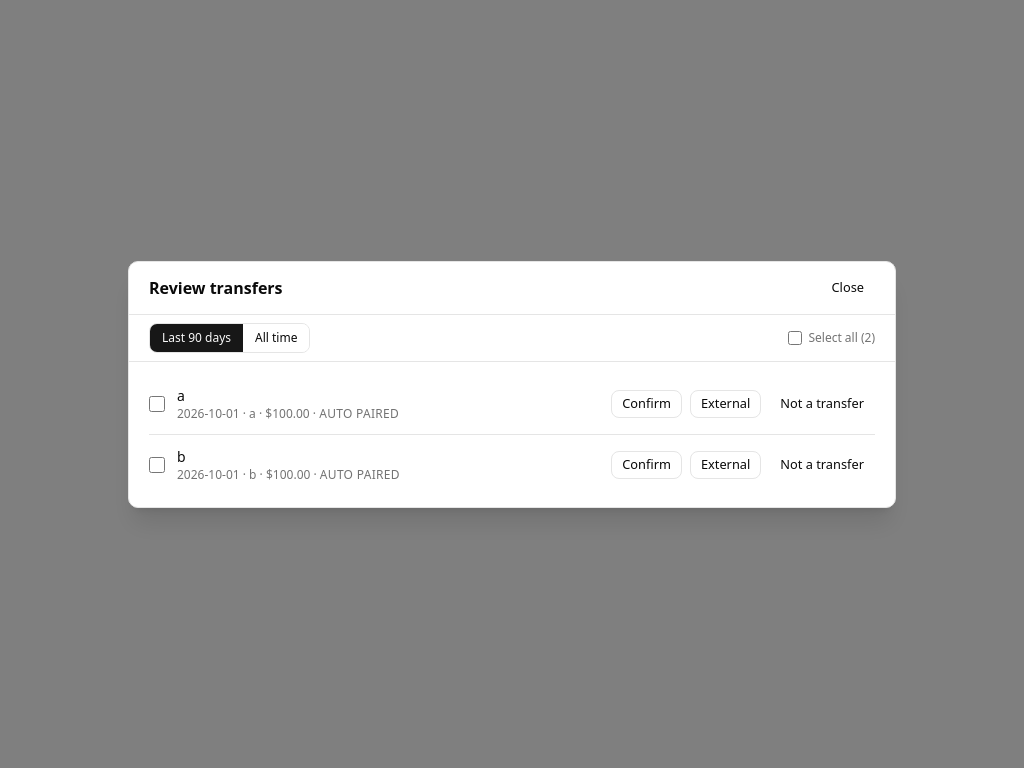
confirms each pair once even when both sides are selected
The width and height of the screenshot is (1024, 768).
Click the checkbox labelled "Select all (2)" at (795, 338), box [788,330,802,344]
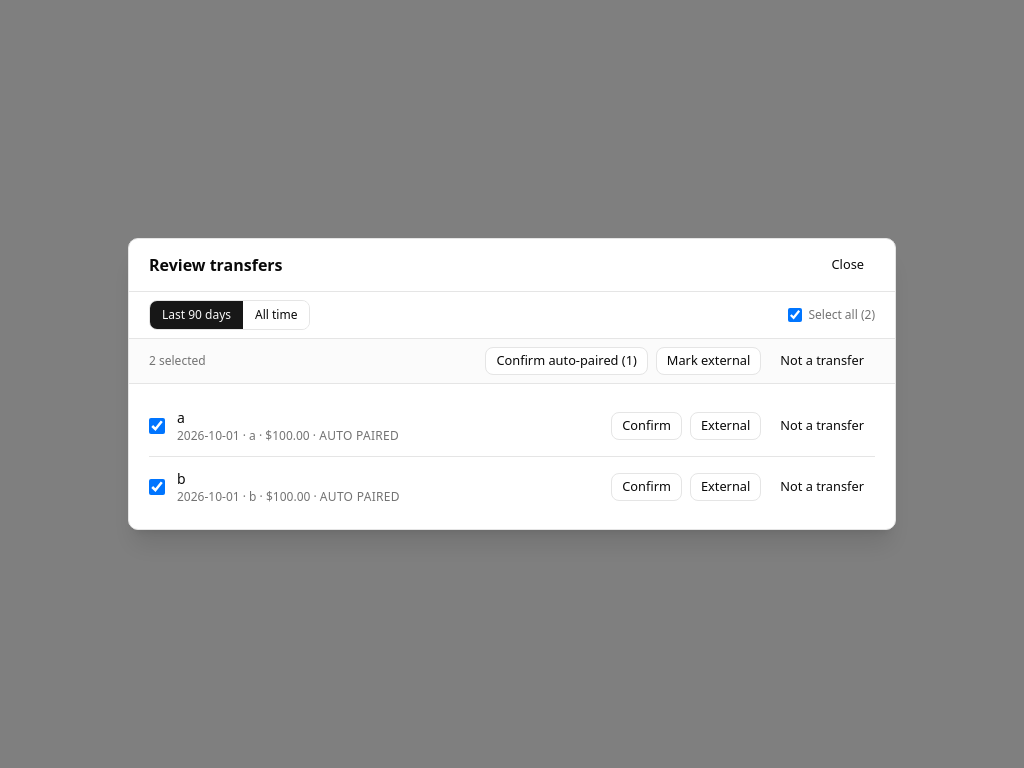
Click the button "Confirm auto-paired (1)" at (567, 361), box [485,347,648,375]
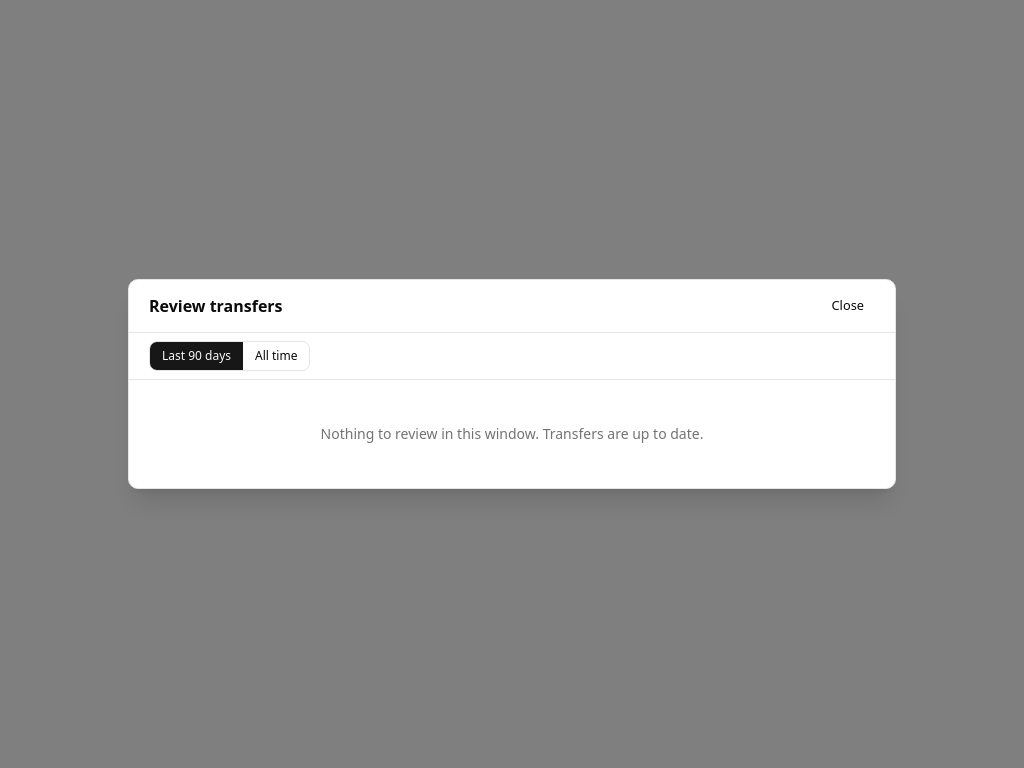
Check: the text "Nothing to review in this window. Transfers are up to date." is shown, box [321,424,703,443]
